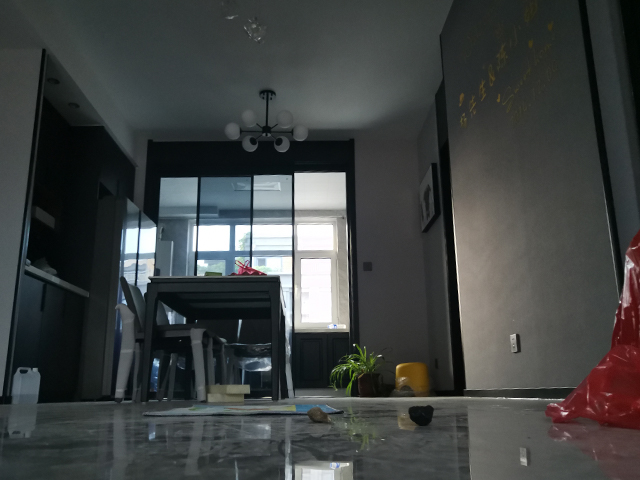cabinet: (4, 265, 88, 403), (292, 328, 352, 397)
carpet: (141, 401, 344, 418)
feces: (407, 402, 435, 428), (304, 406, 334, 424)
stool: (110, 274, 229, 404), (198, 316, 291, 400), (392, 360, 431, 398)
table: (136, 274, 292, 403)
